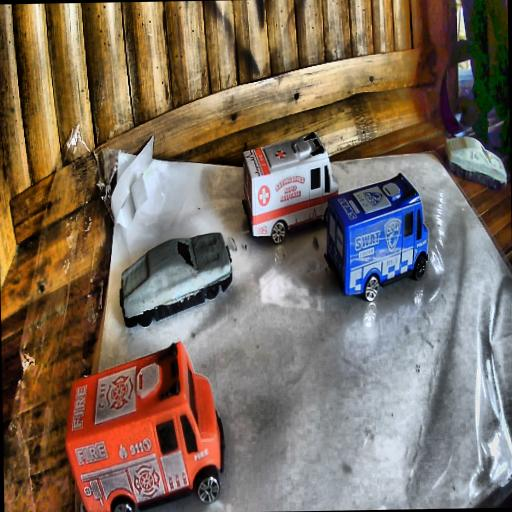ambulance: (240, 132, 333, 246)
fire_truck: (62, 339, 227, 512)
normal_car: (118, 232, 234, 330)
police car: (322, 172, 429, 302)
